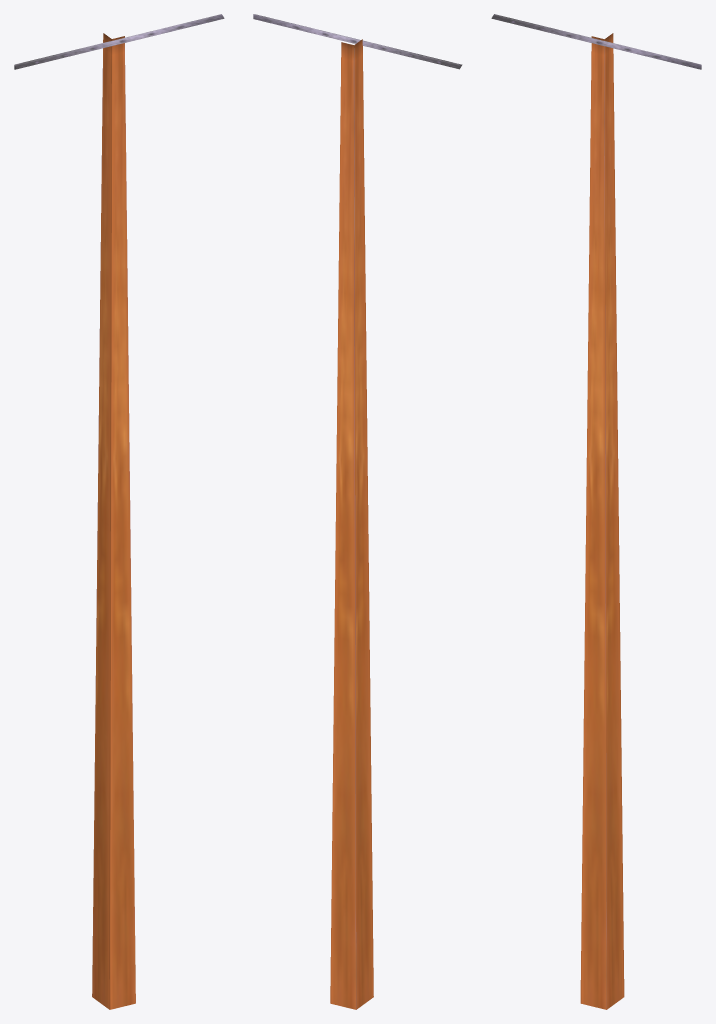
File: ELEC_POLE05.glb
3 renders of one model, left to right at view 1: azimuth 30°, elevation 25°; view 2: azimuth 150°, elevation 25°; view 3: azimuth 330°, elevation 25°, orthographic.
Parts seen in each view (by area): view 1: ELEC_POLE05; view 2: ELEC_POLE05; view 3: ELEC_POLE05.
Boxes of the visible parts, box(x1,y1,x2,y2) form: ELEC_POLE05: box(14, 14, 224, 1009); ELEC_POLE05: box(253, 14, 462, 1009); ELEC_POLE05: box(491, 14, 701, 1009).
Size of the model in its own units: 345 by 1534 by 50.76.
Materials: 1 (1 with a texture image).
